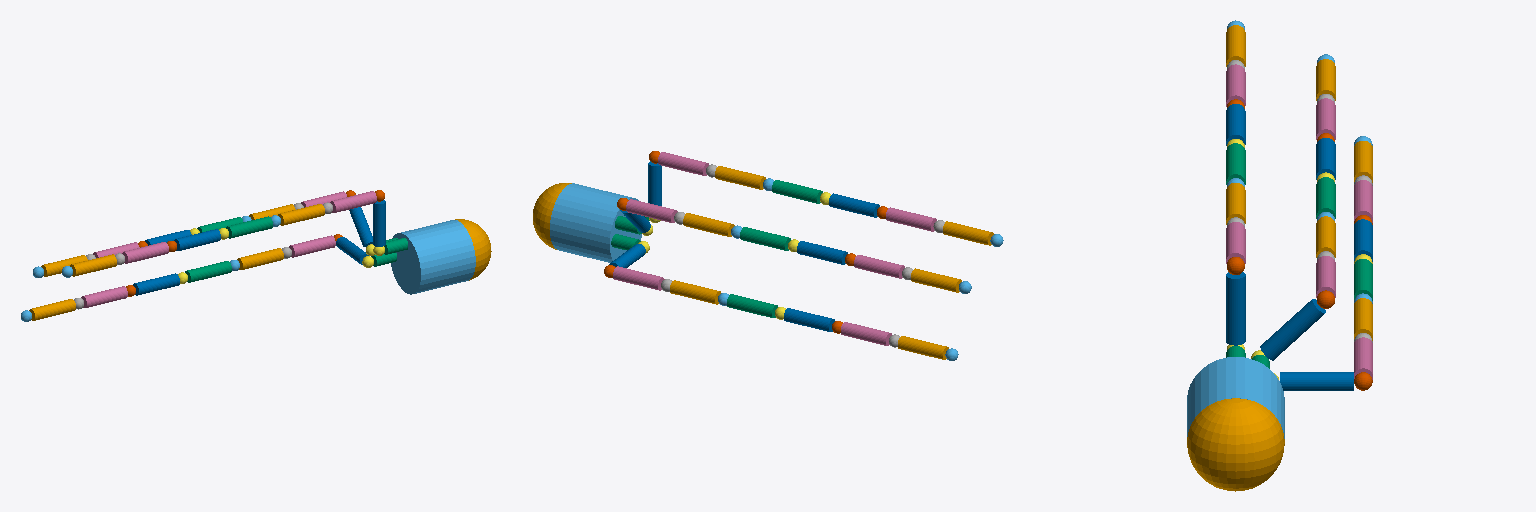
--- Facts derived from the render (not from the file) ---
The picture shows the robot from 3 angles, left to right: view 1: azimuth 30°, elevation 25°; view 2: azimuth 150°, elevation 25°; view 3: azimuth 270°, elevation 25°; orthographic projection.
Robot: sentinel/octopus_3_arms — 50 links, 49 joints (18 revolute, 31 fixed); root link eye; default pose: every joint at zero.
Links seen in each view (by area): view 1: head, eye, branch_20_cylinder, branch_26_cylinder, branch_04_cylinder, branch_23_cylinder, branch_02_cylinder, branch_06_cylinder, branch_22_cylinder, branch_01_cylinder, branch_03_cylinder, branch_25_cylinder (+3 smaller); view 2: head, eye, branch_02_cylinder, branch_04_cylinder, branch_01_cylinder, branch_03_cylinder, branch_05_cylinder, branch_12_cylinder, branch_13_cylinder, branch_21_cylinder, branch_26_cylinder, branch_11_cylinder (+9 smaller); view 3: eye, head, branch_10_cylinder, branch_20_cylinder, branch_00_cylinder, branch_21_cylinder, branch_26_cylinder, branch_14_cylinder, branch_15_cylinder, branch_16_cylinder, branch_23_cylinder, branch_24_cylinder (+11 smaller).
Link boxes in pixels (box(x1,y1,x2,y2)): head: box(391, 220, 475, 294); eye: box(455, 219, 491, 280); branch_20_cylinder: box(373, 200, 385, 246); branch_26_cylinder: box(70, 254, 116, 276); branch_04_cylinder: box(133, 273, 179, 295); branch_23_cylinder: box(226, 216, 272, 238); branch_02_cylinder: box(237, 248, 283, 269); branch_06_cylinder: box(29, 299, 75, 320); branch_22_cylinder: box(278, 204, 324, 225); branch_01_cylinder: box(289, 235, 335, 257); branch_03_cylinder: box(185, 261, 231, 282); branch_25_cylinder: box(122, 242, 168, 263); head: box(550, 183, 641, 262); eye: box(533, 183, 571, 249); branch_02_cylinder: box(670, 280, 720, 304); branch_04_cylinder: box(784, 308, 834, 331); branch_01_cylinder: box(613, 266, 664, 290); branch_03_cylinder: box(727, 294, 777, 317); branch_05_cylinder: box(841, 322, 891, 345); branch_12_cylinder: box(683, 213, 734, 236); branch_13_cylinder: box(740, 227, 790, 250); branch_21_cylinder: box(658, 152, 708, 175); branch_26_cylinder: box(943, 221, 993, 245); branch_11_cylinder: box(626, 199, 677, 222); eye: box(1187, 398, 1284, 491); head: box(1187, 357, 1284, 438); branch_10_cylinder: box(1260, 299, 1325, 360); branch_20_cylinder: box(1226, 272, 1245, 345); branch_00_cylinder: box(1280, 372, 1353, 390); branch_21_cylinder: box(1226, 222, 1245, 263); branch_26_cylinder: box(1226, 25, 1245, 66); branch_14_cylinder: box(1316, 138, 1335, 179); branch_15_cylinder: box(1316, 98, 1335, 139); branch_16_cylinder: box(1316, 59, 1335, 100); branch_23_cylinder: box(1226, 143, 1245, 184); branch_24_cylinder: box(1226, 104, 1245, 145).
Bounding box of the posed robot: 1.55 × 0.38 × 0.3801 m (x, y, z).
Geometry: primitives only (box / cylinder / sphere), no mesh files.

The robot description file, URDF, robot "sentinel/octopus_3_arms":
<?xml version="1.0"?>
<robot name="sentinel/octopus_3_arms">
<link name="eye">
  <inertial>
   <mass value="1"/>
   <inertia ixx="0.004000000000000001" ixy="0" ixz="0" iyy="0.004000000000000001" iyz="0" izz="0.004000000000000001"/>
  </inertial>
  <collision>
    <origin rpy="0 0 0" xyz="0 0 0"/>
    <geometry>
      <sphere radius="0.1"/>
    </geometry>
  </collision>
  <visual>
    <origin rpy="0 0 0" xyz="0 0 0"/>
    <geometry>
      <sphere radius="0.1"/>
    </geometry>
  </visual>
</link>

 <link name="head">
  <inertial>
    <mass value="1"/>
    <inertia ixx="0.0058333333333333345" ixy="0" ixz="0" iyy="0.0058333333333333345" iyz="0" izz="0.0025000000000000005"/>
  </inertial>
  <visual>
    <origin rpy="0 1.57 0" xyz="-0.1 0 0"/>
    <geometry>
      <cylinder length="0.2" radius="0.1"/>
    </geometry>
  </visual>
  <collision>
    <origin rpy="0 1.57 0" xyz="-0.1 0 0"/>
    <geometry>
      <cylinder length="0.2" radius="0.1"/>
    </geometry>
  </collision>
 </link>

<joint name="joint_fixed_eye_head" type="fixed">
  <origin rpy="0 0 0" xyz="0 0 0"/>
  <parent link="eye"/>
  <child link="head"/>
</joint>

<!--############################################################################
branch_00
##############################################################################-->
 <link name="branch_00_cylinder_stub">
  <inertial>
    <mass value="1"/>
    <inertia ixx="0.0005687499999999999" ixy="0" ixz="0" iyy="0.0005687499999999999" iyz="0" izz="0.0001"/>
  </inertial>
  <visual>
    <origin rpy="0 1.57 0" xyz="-0.0375 0 0"/>
    <geometry>
      <cylinder length="0.075" radius="0.02"/>
    </geometry>
  </visual>
  <collision>
    <origin rpy="0 1.57 0" xyz="-0.0375 0 0"/>
    <geometry>
      <cylinder length="0.075" radius="0.02"/>
    </geometry>
  </collision>
 </link>

<joint name="joint_fixed_head_branch_00_cylinder_stub" type="fixed">
  <origin rpy="0 0 0" xyz="-0.2 0.06999999999999999 0.0"/>
  <parent link="head"/>
  <child link="branch_00_cylinder_stub"/>
</joint>

<link name="branch_00_sphere_stub">
  <inertial>
   <mass value="1"/>
   <inertia ixx="0.00014439999999999999" ixy="0" ixz="0" iyy="0.00014439999999999999" iyz="0" izz="0.00014439999999999999"/>
  </inertial>
  <collision>
    <origin rpy="0 0 0" xyz="-0.095 0 0"/>
    <geometry>
      <sphere radius="0.019"/>
    </geometry>
  </collision>
  <visual>
    <origin rpy="0 0 0" xyz="-0.095 0 0"/>
    <geometry>
      <sphere radius="0.019"/>
    </geometry>
  </visual>
</link>

<joint name="joint_fixed_branch_00_cylinder_stub_branch_00_sphere_stub" type="fixed">
  <origin rpy="0 0 0" xyz="0 0 0"/>
  <parent link="branch_00_cylinder_stub"/>
  <child link="branch_00_sphere_stub"/>
</joint>

 <link name="branch_00_cylinder">
  <inertial>
    <mass value="1"/>
    <inertia ixx="0.0019749999999999998" ixy="0" ixz="0" iyy="0.0019749999999999998" iyz="0" izz="0.0001"/>
  </inertial>
  <visual>
    <origin rpy="0 1.5707963267948966 1.57" xyz="-0.095 0.095 0.0"/>
    <geometry>
      <cylinder length="0.15" radius="0.02"/>
    </geometry>
  </visual>
  <collision>
    <origin rpy="0 1.5707963267948966 1.57" xyz="-0.095 0.095 0.0"/>
    <geometry>
      <cylinder length="0.15" radius="0.02"/>
    </geometry>
  </collision>
 </link>

<joint name="joint_fixed_branch_00_sphere_stub_branch_00_cylinder" type="fixed">
  <origin rpy="0 0 0" xyz="0 0 0"/>
  <parent link="branch_00_sphere_stub"/>
  <child link="branch_00_cylinder"/>
</joint>

<link name="branch_00">
  <inertial>
   <mass value="1"/>
   <inertia ixx="0.00014439999999999999" ixy="0" ixz="0" iyy="0.00014439999999999999" iyz="0" izz="0.00014439999999999999"/>
  </inertial>
  <collision>
    <origin rpy="0 0 0" xyz="0 0 0"/>
    <geometry>
      <sphere radius="0.019"/>
    </geometry>
  </collision>
  <visual>
    <origin rpy="0 0 0" xyz="0 0 0"/>
    <geometry>
      <sphere radius="0.019"/>
    </geometry>
  </visual>
</link>

<joint name="joint_fixed_branch_00_cylinder_branch_00" type="fixed">
  <origin rpy="0 0 0" xyz="-0.095 0.19 0.0"/>
  <parent link="branch_00_cylinder"/>
  <child link="branch_00"/>
</joint>

<!--############################################################################
branch_01
##############################################################################-->
 <link name="branch_01_cylinder">
  <inertial>
    <mass value="1"/>
    <inertia ixx="0.0019749999999999998" ixy="0" ixz="0" iyy="0.0019749999999999998" iyz="0" izz="0.0001"/>
  </inertial>
  <visual>
    <origin rpy="0 1.57 0" xyz="-0.095 0 0"/>
    <geometry>
      <cylinder length="0.15" radius="0.02"/>
    </geometry>
  </visual>
  <collision>
    <origin rpy="0 1.57 0" xyz="-0.095 0 0"/>
    <geometry>
      <cylinder length="0.15" radius="0.02"/>
    </geometry>
  </collision>
 </link>

<joint name="joint_revolute_branch_00_branch_01_cylinder_Z" type="revolute">
  <origin rpy="0 0 0" xyz="0 0 0"/>
  <parent link="branch_00"/>
  <child link="branch_01_cylinder"/>
  <axis xyz="0 0.0 -1.0"/>
  <dynamics damping="0.01" friction="0.5"/>
  <limit lower="-1.5707963267948966" upper="1.5707963267948966" effort="0.01" velocity="100"/>
</joint>

<link name="branch_01">
  <inertial>
   <mass value="1"/>
   <inertia ixx="0.00014439999999999999" ixy="0" ixz="0" iyy="0.00014439999999999999" iyz="0" izz="0.00014439999999999999"/>
  </inertial>
  <collision>
    <origin rpy="0 0 0" xyz="0 0 0"/>
    <geometry>
      <sphere radius="0.019"/>
    </geometry>
  </collision>
  <visual>
    <origin rpy="0 0 0" xyz="0 0 0"/>
    <geometry>
      <sphere radius="0.019"/>
    </geometry>
  </visual>
</link>

<joint name="joint_fixed_branch_01_cylinder_branch_01" type="fixed">
  <origin rpy="0 0 0" xyz="-0.19 0 0"/>
  <parent link="branch_01_cylinder"/>
  <child link="branch_01"/>
</joint>

<!--############################################################################
branch_02
##############################################################################-->
 <link name="branch_02_cylinder">
  <inertial>
    <mass value="1"/>
    <inertia ixx="0.0019749999999999998" ixy="0" ixz="0" iyy="0.0019749999999999998" iyz="0" izz="0.0001"/>
  </inertial>
  <visual>
    <origin rpy="0 1.57 0" xyz="-0.095 0 0"/>
    <geometry>
      <cylinder length="0.15" radius="0.02"/>
    </geometry>
  </visual>
  <collision>
    <origin rpy="0 1.57 0" xyz="-0.095 0 0"/>
    <geometry>
      <cylinder length="0.15" radius="0.02"/>
    </geometry>
  </collision>
 </link>

<joint name="joint_revolute_branch_01_branch_02_cylinder_Z" type="revolute">
  <origin rpy="0 0 0" xyz="0 0 0"/>
  <parent link="branch_01"/>
  <child link="branch_02_cylinder"/>
  <axis xyz="0 0.0 -1.0"/>
  <dynamics damping="0.01" friction="0.5"/>
  <limit lower="-1.5707963267948966" upper="1.5707963267948966" effort="0.01" velocity="100"/>
</joint>

<link name="branch_02">
  <inertial>
   <mass value="1"/>
   <inertia ixx="0.00014439999999999999" ixy="0" ixz="0" iyy="0.00014439999999999999" iyz="0" izz="0.00014439999999999999"/>
  </inertial>
  <collision>
    <origin rpy="0 0 0" xyz="0 0 0"/>
    <geometry>
      <sphere radius="0.019"/>
    </geometry>
  </collision>
  <visual>
    <origin rpy="0 0 0" xyz="0 0 0"/>
    <geometry>
      <sphere radius="0.019"/>
    </geometry>
  </visual>
</link>

<joint name="joint_fixed_branch_02_cylinder_branch_02" type="fixed">
  <origin rpy="0 0 0" xyz="-0.19 0 0"/>
  <parent link="branch_02_cylinder"/>
  <child link="branch_02"/>
</joint>

<!--############################################################################
branch_03
##############################################################################-->
 <link name="branch_03_cylinder">
  <inertial>
    <mass value="1"/>
    <inertia ixx="0.0019749999999999998" ixy="0" ixz="0" iyy="0.0019749999999999998" iyz="0" izz="0.0001"/>
  </inertial>
  <visual>
    <origin rpy="0 1.57 0" xyz="-0.095 0 0"/>
    <geometry>
      <cylinder length="0.15" radius="0.02"/>
    </geometry>
  </visual>
  <collision>
    <origin rpy="0 1.57 0" xyz="-0.095 0 0"/>
    <geometry>
      <cylinder length="0.15" radius="0.02"/>
    </geometry>
  </collision>
 </link>

<joint name="joint_revolute_branch_02_branch_03_cylinder_Z" type="revolute">
  <origin rpy="0 0 0" xyz="0 0 0"/>
  <parent link="branch_02"/>
  <child link="branch_03_cylinder"/>
  <axis xyz="0 0.0 -1.0"/>
  <dynamics damping="0.01" friction="0.5"/>
  <limit lower="-1.5707963267948966" upper="1.5707963267948966" effort="0.01" velocity="100"/>
</joint>

<link name="branch_03">
  <inertial>
   <mass value="1"/>
   <inertia ixx="0.00014439999999999999" ixy="0" ixz="0" iyy="0.00014439999999999999" iyz="0" izz="0.00014439999999999999"/>
  </inertial>
  <collision>
    <origin rpy="0 0 0" xyz="0 0 0"/>
    <geometry>
      <sphere radius="0.019"/>
    </geometry>
  </collision>
  <visual>
    <origin rpy="0 0 0" xyz="0 0 0"/>
    <geometry>
      <sphere radius="0.019"/>
    </geometry>
  </visual>
</link>

<joint name="joint_fixed_branch_03_cylinder_branch_03" type="fixed">
  <origin rpy="0 0 0" xyz="-0.19 0 0"/>
  <parent link="branch_03_cylinder"/>
  <child link="branch_03"/>
</joint>

<!--############################################################################
branch_04
##############################################################################-->
 <link name="branch_04_cylinder">
  <inertial>
    <mass value="1"/>
    <inertia ixx="0.0019749999999999998" ixy="0" ixz="0" iyy="0.0019749999999999998" iyz="0" izz="0.0001"/>
  </inertial>
  <visual>
    <origin rpy="0 1.57 0" xyz="-0.095 0 0"/>
    <geometry>
      <cylinder length="0.15" radius="0.02"/>
    </geometry>
  </visual>
  <collision>
    <origin rpy="0 1.57 0" xyz="-0.095 0 0"/>
    <geometry>
      <cylinder length="0.15" radius="0.02"/>
    </geometry>
  </collision>
 </link>

<joint name="joint_revolute_branch_03_branch_04_cylinder_Z" type="revolute">
  <origin rpy="0 0 0" xyz="0 0 0"/>
  <parent link="branch_03"/>
  <child link="branch_04_cylinder"/>
  <axis xyz="0 0.0 -1.0"/>
  <dynamics damping="0.01" friction="0.5"/>
  <limit lower="-1.5707963267948966" upper="1.5707963267948966" effort="0.01" velocity="100"/>
</joint>

<link name="branch_04">
  <inertial>
   <mass value="1"/>
   <inertia ixx="0.00014439999999999999" ixy="0" ixz="0" iyy="0.00014439999999999999" iyz="0" izz="0.00014439999999999999"/>
  </inertial>
  <collision>
    <origin rpy="0 0 0" xyz="0 0 0"/>
    <geometry>
      <sphere radius="0.019"/>
    </geometry>
  </collision>
  <visual>
    <origin rpy="0 0 0" xyz="0 0 0"/>
    <geometry>
      <sphere radius="0.019"/>
    </geometry>
  </visual>
</link>

<joint name="joint_fixed_branch_04_cylinder_branch_04" type="fixed">
  <origin rpy="0 0 0" xyz="-0.19 0 0"/>
  <parent link="branch_04_cylinder"/>
  <child link="branch_04"/>
</joint>

<!--############################################################################
branch_05
##############################################################################-->
 <link name="branch_05_cylinder">
  <inertial>
    <mass value="1"/>
    <inertia ixx="0.0019749999999999998" ixy="0" ixz="0" iyy="0.0019749999999999998" iyz="0" izz="0.0001"/>
  </inertial>
  <visual>
    <origin rpy="0 1.57 0" xyz="-0.095 0 0"/>
    <geometry>
      <cylinder length="0.15" radius="0.02"/>
    </geometry>
  </visual>
  <collision>
    <origin rpy="0 1.57 0" xyz="-0.095 0 0"/>
    <geometry>
      <cylinder length="0.15" radius="0.02"/>
    </geometry>
  </collision>
 </link>

<joint name="joint_revolute_branch_04_branch_05_cylinder_Z" type="revolute">
  <origin rpy="0 0 0" xyz="0 0 0"/>
  <parent link="branch_04"/>
  <child link="branch_05_cylinder"/>
  <axis xyz="0 0.0 -1.0"/>
  <dynamics damping="0.01" friction="0.5"/>
  <limit lower="-1.5707963267948966" upper="1.5707963267948966" effort="0.01" velocity="100"/>
</joint>

<link name="branch_05">
  <inertial>
   <mass value="1"/>
   <inertia ixx="0.00014439999999999999" ixy="0" ixz="0" iyy="0.00014439999999999999" iyz="0" izz="0.00014439999999999999"/>
  </inertial>
  <collision>
    <origin rpy="0 0 0" xyz="0 0 0"/>
    <geometry>
      <sphere radius="0.019"/>
    </geometry>
  </collision>
  <visual>
    <origin rpy="0 0 0" xyz="0 0 0"/>
    <geometry>
      <sphere radius="0.019"/>
    </geometry>
  </visual>
</link>

<joint name="joint_fixed_branch_05_cylinder_branch_05" type="fixed">
  <origin rpy="0 0 0" xyz="-0.19 0 0"/>
  <parent link="branch_05_cylinder"/>
  <child link="branch_05"/>
</joint>

<!--############################################################################
branch_06
##############################################################################-->
 <link name="branch_06_cylinder">
  <inertial>
    <mass value="1"/>
    <inertia ixx="0.0019749999999999998" ixy="0" ixz="0" iyy="0.0019749999999999998" iyz="0" izz="0.0001"/>
  </inertial>
  <visual>
    <origin rpy="0 1.57 0" xyz="-0.095 0 0"/>
    <geometry>
      <cylinder length="0.15" radius="0.02"/>
    </geometry>
  </visual>
  <collision>
    <origin rpy="0 1.57 0" xyz="-0.095 0 0"/>
    <geometry>
      <cylinder length="0.15" radius="0.02"/>
    </geometry>
  </collision>
 </link>

<joint name="joint_revolute_branch_05_branch_06_cylinder_Z" type="revolute">
  <origin rpy="0 0 0" xyz="0 0 0"/>
  <parent link="branch_05"/>
  <child link="branch_06_cylinder"/>
  <axis xyz="0 0.0 -1.0"/>
  <dynamics damping="0.01" friction="0.5"/>
  <limit lower="-1.5707963267948966" upper="1.5707963267948966" effort="0.01" velocity="100"/>
</joint>

<link name="branch_06">
  <inertial>
   <mass value="1"/>
   <inertia ixx="0.00014439999999999999" ixy="0" ixz="0" iyy="0.00014439999999999999" iyz="0" izz="0.00014439999999999999"/>
  </inertial>
  <collision>
    <origin rpy="0 0 0" xyz="0 0 0"/>
    <geometry>
      <sphere radius="0.019"/>
    </geometry>
  </collision>
  <visual>
    <origin rpy="0 0 0" xyz="0 0 0"/>
    <geometry>
      <sphere radius="0.019"/>
    </geometry>
  </visual>
</link>

<joint name="joint_fixed_branch_06_cylinder_branch_06" type="fixed">
  <origin rpy="0 0 0" xyz="-0.19 0 0"/>
  <parent link="branch_06_cylinder"/>
  <child link="branch_06"/>
</joint>

<!--############################################################################
branch_10
##############################################################################-->
 <link name="branch_10_cylinder_stub">
  <inertial>
    <mass value="1"/>
    <inertia ixx="0.0005687499999999999" ixy="0" ixz="0" iyy="0.0005687499999999999" iyz="0" izz="0.0001"/>
  </inertial>
  <visual>
    <origin rpy="0 1.57 0" xyz="-0.0375 0 0"/>
    <geometry>
      <cylinder length="0.075" radius="0.02"/>
    </geometry>
  </visual>
  <collision>
    <origin rpy="0 1.57 0" xyz="-0.0375 0 0"/>
    <geometry>
      <cylinder length="0.075" radius="0.02"/>
    </geometry>
  </collision>
 </link>

<joint name="joint_fixed_head_branch_10_cylinder_stub" type="fixed">
  <origin rpy="0 0 0" xyz="-0.2 0.049497474683058325 0.04949747468305832"/>
  <parent link="head"/>
  <child link="branch_10_cylinder_stub"/>
</joint>

<link name="branch_10_sphere_stub">
  <inertial>
   <mass value="1"/>
   <inertia ixx="0.00014439999999999999" ixy="0" ixz="0" iyy="0.00014439999999999999" iyz="0" izz="0.00014439999999999999"/>
  </inertial>
  <collision>
    <origin rpy="0 0 0" xyz="-0.095 0 0"/>
    <geometry>
      <sphere radius="0.019"/>
    </geometry>
  </collision>
  <visual>
    <origin rpy="0 0 0" xyz="-0.095 0 0"/>
    <geometry>
      <sphere radius="0.019"/>
    </geometry>
  </visual>
</link>

<joint name="joint_fixed_branch_10_cylinder_stub_branch_10_sphere_stub" type="fixed">
  <origin rpy="0 0 0" xyz="0 0 0"/>
  <parent link="branch_10_cylinder_stub"/>
  <child link="branch_10_sphere_stub"/>
</joint>

 <link name="branch_10_cylinder">
  <inertial>
    <mass value="1"/>
    <inertia ixx="0.0019749999999999998" ixy="0" ixz="0" iyy="0.0019749999999999998" iyz="0" izz="0.0001"/>
  </inertial>
  <visual>
    <origin rpy="0 0.7853981633974484 1.57" xyz="-0.095 0.06717514421272201 0.06717514421272201"/>
    <geometry>
      <cylinder length="0.15" radius="0.02"/>
    </geometry>
  </visual>
  <collision>
    <origin rpy="0 0.7853981633974484 1.57" xyz="-0.095 0.06717514421272201 0.06717514421272201"/>
    <geometry>
      <cylinder length="0.15" radius="0.02"/>
    </geometry>
  </collision>
 </link>

<joint name="joint_fixed_branch_10_sphere_stub_branch_10_cylinder" type="fixed">
  <origin rpy="0 0 0" xyz="0 0 0"/>
  <parent link="branch_10_sphere_stub"/>
  <child link="branch_10_cylinder"/>
</joint>

<link name="branch_10">
  <inertial>
   <mass value="1"/>
   <inertia ixx="0.00014439999999999999" ixy="0" ixz="0" iyy="0.00014439999999999999" iyz="0" izz="0.00014439999999999999"/>
  </inertial>
  <collision>
    <origin rpy="0 0 0" xyz="0 0 0"/>
    <geometry>
      <sphere radius="0.019"/>
    </geometry>
  </collision>
  <visual>
    <origin rpy="0 0 0" xyz="0 0 0"/>
    <geometry>
      <sphere radius="0.019"/>
    </geometry>
  </visual>
</link>

<joint name="joint_fixed_branch_10_cylinder_branch_10" type="fixed">
  <origin rpy="0 0 0" xyz="-0.095 0.13435028842544403 0.13435028842544403"/>
  <parent link="branch_10_cylinder"/>
  <child link="branch_10"/>
</joint>

<!--############################################################################
branch_11
##############################################################################-->
 <link name="branch_11_cylinder">
  <inertial>
    <mass value="1"/>
    <inertia ixx="0.0019749999999999998" ixy="0" ixz="0" iyy="0.0019749999999999998" iyz="0" izz="0.0001"/>
  </inertial>
  <visual>
    <origin rpy="0 1.57 0" xyz="-0.095 0 0"/>
    <geometry>
      <cylinder length="0.15" radius="0.02"/>
    </geometry>
  </visual>
  <collision>
    <origin rpy="0 1.57 0" xyz="-0.095 0 0"/>
    <geometry>
      <cylinder length="0.15" radius="0.02"/>
    </geometry>
  </collision>
 </link>

<joint name="joint_revolute_branch_10_branch_11_cylinder_Z" type="revolute">
  <origin rpy="0 0 0" xyz="0 0 0"/>
  <parent link="branch_10"/>
  <child link="branch_11_cylinder"/>
  <axis xyz="0 0.7071067811865475 -0.7071067811865476"/>
  <dynamics damping="0.01" friction="0.5"/>
  <limit lower="-1.5707963267948966" upper="1.5707963267948966" effort="0.01" velocity="100"/>
</joint>

<link name="branch_11">
  <inertial>
   <mass value="1"/>
   <inertia ixx="0.00014439999999999999" ixy="0" ixz="0" iyy="0.00014439999999999999" iyz="0" izz="0.00014439999999999999"/>
  </inertial>
  <collision>
    <origin rpy="0 0 0" xyz="0 0 0"/>
    <geometry>
      <sphere radius="0.019"/>
    </geometry>
  </collision>
  <visual>
    <origin rpy="0 0 0" xyz="0 0 0"/>
    <geometry>
      <sphere radius="0.019"/>
    </geometry>
  </visual>
</link>

<joint name="joint_fixed_branch_11_cylinder_branch_11" type="fixed">
  <origin rpy="0 0 0" xyz="-0.19 0 0"/>
  <parent link="branch_11_cylinder"/>
  <child link="branch_11"/>
</joint>

<!--############################################################################
branch_12
##############################################################################-->
 <link name="branch_12_cylinder">
  <inertial>
    <mass value="1"/>
    <inertia ixx="0.0019749999999999998" ixy="0" ixz="0" iyy="0.0019749999999999998" iyz="0" izz="0.0001"/>
  </inertial>
  <visual>
    <origin rpy="0 1.57 0" xyz="-0.095 0 0"/>
    <geometry>
      <cylinder length="0.15" radius="0.02"/>
    </geometry>
  </visual>
  <collision>
    <origin rpy="0 1.57 0" xyz="-0.095 0 0"/>
    <geometry>
      <cylinder length="0.15" radius="0.02"/>
    </geometry>
  </collision>
 </link>

<joint name="joint_revolute_branch_11_branch_12_cylinder_Z" type="revolute">
  <origin rpy="0 0 0" xyz="0 0 0"/>
  <parent link="branch_11"/>
  <child link="branch_12_cylinder"/>
  <axis xyz="0 0.7071067811865475 -0.7071067811865476"/>
  <dynamics damping="0.01" friction="0.5"/>
  <limit lower="-1.5707963267948966" upper="1.5707963267948966" effort="0.01" velocity="100"/>
</joint>

<link name="branch_12">
  <inertial>
   <mass value="1"/>
   <inertia ixx="0.00014439999999999999" ixy="0" ixz="0" iyy="0.00014439999999999999" iyz="0" izz="0.00014439999999999999"/>
  </inertial>
  <collision>
    <origin rpy="0 0 0" xyz="0 0 0"/>
    <geometry>
      <sphere radius="0.019"/>
    </geometry>
  </collision>
  <visual>
    <origin rpy="0 0 0" xyz="0 0 0"/>
    <geometry>
      <sphere radius="0.019"/>
    </geometry>
  </visual>
</link>

<joint name="joint_fixed_branch_12_cylinder_branch_12" type="fixed">
  <origin rpy="0 0 0" xyz="-0.19 0 0"/>
  <parent link="branch_12_cylinder"/>
  <child link="branch_12"/>
</joint>

<!--############################################################################
branch_13
##############################################################################-->
 <link name="branch_13_cylinder">
  <inertial>
    <mass value="1"/>
    <inertia ixx="0.0019749999999999998" ixy="0" ixz="0" iyy="0.0019749999999999998" iyz="0" izz="0.0001"/>
  </inertial>
  <visual>
    <origin rpy="0 1.57 0" xyz="-0.095 0 0"/>
    <geometry>
      <cylinder length="0.15" radius="0.02"/>
    </geometry>
  </visual>
  <collision>
    <origin rpy="0 1.57 0" xyz="-0.095 0 0"/>
    <geometry>
      <cylinder length="0.15" radius="0.02"/>
    </geometry>
  </collision>
 </link>

<joint name="joint_revolute_branch_12_branch_13_cylinder_Z" type="revolute">
  <origin rpy="0 0 0" xyz="0 0 0"/>
  <parent link="branch_12"/>
  <child link="branch_13_cylinder"/>
  <axis xyz="0 0.7071067811865475 -0.7071067811865476"/>
  <dynamics damping="0.01" friction="0.5"/>
  <limit lower="-1.5707963267948966" upper="1.5707963267948966" effort="0.01" velocity="100"/>
</joint>

<link name="branch_13">
  <inertial>
   <mass value="1"/>
   <inertia ixx="0.00014439999999999999" ixy="0" ixz="0" iyy="0.00014439999999999999" iyz="0" izz="0.00014439999999999999"/>
  </inertial>
  <collision>
    <origin rpy="0 0 0" xyz="0 0 0"/>
    <geometry>
      <sphere radius="0.019"/>
    </geometry>
  </collision>
  <visual>
    <origin rpy="0 0 0" xyz="0 0 0"/>
    <geometry>
      <sphere radius="0.019"/>
    </geometry>
  </visual>
</link>

<joint name="joint_fixed_branch_13_cylinder_branch_13" type="fixed">
  <origin rpy="0 0 0" xyz="-0.19 0 0"/>
  <parent link="branch_13_cylinder"/>
  <child link="branch_13"/>
</joint>

<!--############################################################################
branch_14
##############################################################################-->
 <link name="branch_14_cylinder">
  <inertial>
    <mass value="1"/>
    <inertia ixx="0.0019749999999999998" ixy="0" ixz="0" iyy="0.0019749999999999998" iyz="0" izz="0.0001"/>
  </inertial>
  <visual>
    <origin rpy="0 1.57 0" xyz="-0.095 0 0"/>
    <geometry>
      <cylinder length="0.15" radius="0.02"/>
    </geometry>
  </visual>
  <collision>
    <origin rpy="0 1.57 0" xyz="-0.095 0 0"/>
    <geometry>
      <cylinder length="0.15" radius="0.02"/>
    </geometry>
  </collision>
 </link>

<joint name="joint_revolute_branch_13_branch_14_cylinder_Z" type="revolute">
  <origin rpy="0 0 0" xyz="0 0 0"/>
  <parent link="branch_13"/>
  <child link="branch_14_cylinder"/>
  <axis xyz="0 0.7071067811865475 -0.7071067811865476"/>
  <dynamics damping="0.01" friction="0.5"/>
  <limit lower="-1.5707963267948966" upper="1.5707963267948966" effort="0.01" velocity="100"/>
</joint>

<link name="branch_14">
  <inertial>
   <mass value="1"/>
   <inertia ixx="0.00014439999999999999" ixy="0" ixz="0" iyy="0.00014439999999999999" iyz="0" izz="0.00014439999999999999"/>
  </inertial>
  <collision>
    <origin rpy="0 0 0" xyz="0 0 0"/>
    <geometry>
      <sphere radius="0.019"/>
    </geometry>
  </collision>
  <visual>
    <origin rpy="0 0 0" xyz="0 0 0"/>
    <geometry>
      <sphere radius="0.019"/>
    </geometry>
  </visual>
</link>

<joint name="joint_fixed_branch_14_cylinder_branch_14" type="fixed">
  <origin rpy="0 0 0" xyz="-0.19 0 0"/>
  <parent link="branch_14_cylinder"/>
  <child link="branch_14"/>
</joint>

<!--############################################################################
branch_15
##############################################################################-->
 <link name="branch_15_cylinder">
  <inertial>
    <mass value="1"/>
    <inertia ixx="0.0019749999999999998" ixy="0" ixz="0" iyy="0.0019749999999999998" iyz="0" izz="0.0001"/>
  </inertial>
  <visual>
    <origin rpy="0 1.57 0" xyz="-0.095 0 0"/>
    <geometry>
      <cylinder length="0.15" radius="0.02"/>
    </geometry>
  </visual>
  <collision>
    <origin rpy="0 1.57 0" xyz="-0.095 0 0"/>
    <geometry>
      <cylinder length="0.15" radius="0.02"/>
    </geometry>
  </collision>
 </link>

<joint name="joint_revolute_branch_14_branch_15_cylinder_Z" type="revolute">
  <origin rpy="0 0 0" xyz="0 0 0"/>
  <parent link="branch_14"/>
  <child link="branch_15_cylinder"/>
  <axis xyz="0 0.7071067811865475 -0.7071067811865476"/>
  <dynamics damping="0.01" friction="0.5"/>
  <limit lower="-1.5707963267948966" upper="1.5707963267948966" effort="0.01" velocity="100"/>
</joint>

<link name="branch_15">
  <inertial>
   <mass value="1"/>
   <inertia ixx="0.00014439999999999999" ixy="0" ixz="0" iyy="0.00014439999999999999" iyz="0" izz="0.00014439999999999999"/>
  </inertial>
  <collision>
    <origin rpy="0 0 0" xyz="0 0 0"/>
    <geometry>
      <sphere radius="0.019"/>
    </geometry>
  </collision>
  <visual>
    <origin rpy="0 0 0" xyz="0 0 0"/>
    <geometry>
      <sphere radius="0.019"/>
    </geometry>
  </visual>
</link>

<joint name="joint_fixed_branch_15_cylinder_branch_15" type="fixed">
  <origin rpy="0 0 0" xyz="-0.19 0 0"/>
  <parent link="branch_15_cylinder"/>
  <child link="branch_15"/>
</joint>

<!--############################################################################
branch_16
##############################################################################-->
 <link name="branch_16_cylinder">
  <inertial>
    <mass value="1"/>
    <inertia ixx="0.0019749999999999998" ixy="0" ixz="0" iyy="0.0019749999999999998" iyz="0" izz="0.0001"/>
  </inertial>
  <visual>
    <origin rpy="0 1.57 0" xyz="-0.095 0 0"/>
    <geometry>
      <cylinder length="0.15" radius="0.02"/>
    </geometry>
  </visual>
  <collision>
    <origin rpy="0 1.57 0" xyz="-0.095 0 0"/>
    <geometry>
      <cylinder length="0.15" radius="0.02"/>
    </geometry>
  </collision>
 </link>

<joint name="joint_revolute_branch_15_branch_16_cylinder_Z" type="revolute">
  <origin rpy="0 0 0" xyz="0 0 0"/>
  <parent link="branch_15"/>
  <child link="branch_16_cylinder"/>
  <axis xyz="0 0.7071067811865475 -0.7071067811865476"/>
  <dynamics damping="0.01" friction="0.5"/>
  <limit lower="-1.5707963267948966" upper="1.5707963267948966" effort="0.01" velocity="100"/>
</joint>

<link name="branch_16">
  <inertial>
   <mass value="1"/>
   <inertia ixx="0.00014439999999999999" ixy="0" ixz="0" iyy="0.00014439999999999999" iyz="0" izz="0.00014439999999999999"/>
  </inertial>
  <collision>
    <origin rpy="0 0 0" xyz="0 0 0"/>
    <geometry>
      <sphere radius="0.019"/>
    </geometry>
  </collision>
  <visual>
    <origin rpy="0 0 0" xyz="0 0 0"/>
    <geometry>
      <sphere radius="0.019"/>
    </geometry>
  </visual>
</link>

<joint name="joint_fixed_branch_16_cylinder_branch_16" type="fixed">
  <origin rpy="0 0 0" xyz="-0.19 0 0"/>
  <parent link="branch_16_cylinder"/>
  <child link="branch_16"/>
</joint>

<!--############################################################################
branch_20
##############################################################################-->
 <link name="branch_20_cylinder_stub">
  <inertial>
    <mass value="1"/>
    <inertia ixx="0.0005687499999999999" ixy="0" ixz="0" iyy="0.0005687499999999999" iyz="0" izz="0.0001"/>
  </inertial>
  <visual>
    <origin rpy="0 1.57 0" xyz="-0.0375 0 0"/>
    <geometry>
      <cylinder length="0.075" radius="0.02"/>
    </geometry>
  </visual>
  <collision>
    <origin rpy="0 1.57 0" xyz="-0.0375 0 0"/>
    <geometry>
      <cylinder length="0.075" radius="0.02"/>
    </geometry>
  </collision>
 </link>

<joint name="joint_fixed_head_branch_20_cylinder_stub" type="fixed">
  <origin rpy="0 0 0" xyz="-0.2 4.286263797015736e-18 0.06999999999999999"/>
  <parent link="head"/>
  <child link="branch_20_cylinder_stub"/>
</joint>

<link name="branch_20_sphere_stub">
  <inertial>
   <mass value="1"/>
   <inertia ixx="0.00014439999999999999" ixy="0" ixz="0" iyy="0.00014439999999999999" iyz="0" izz="0.00014439999999999999"/>
  </inertial>
  <collision>
    <origin rpy="0 0 0" xyz="-0.095 0 0"/>
    <geometry>
      <sphere radius="0.019"/>
    </geometry>
  </collision>
  <visual>
    <origin rpy="0 0 0" xyz="-0.095 0 0"/>
    <geometry>
      <sphere radius="0.019"/>
    </geometry>
  </visual>
</link>

<joint name="joint_fixed_branch_20_cylinder_stub_branch_20_sphere_stub" type="fixed">
  <origin rpy="0 0 0" xyz="0 0 0"/>
  <parent link="branch_20_cylinder_stub"/>
  <child link="branch_20_sphere_stub"/>
</joint>

 <link name="branch_20_cylinder">
  <inertial>
    <mass value="1"/>
    <inertia ixx="0.0019749999999999998" ixy="0" ixz="0" iyy="0.0019749999999999998" iyz="0" izz="0.0001"/>
  </inertial>
  <visual>
    <origin rpy="0 6.123233995736766e-17 1.57" xyz="-0.095 5.817072295949928e-18 0.095"/>
    <geometry>
      <cylinder length="0.15" radius="0.02"/>
    </geometry>
  </visual>
  <collision>
    <origin rpy="0 6.123233995736766e-17 1.57" xyz="-0.095 5.817072295949928e-18 0.095"/>
    <geometry>
      <cylinder length="0.15" radius="0.02"/>
    </geometry>
  </collision>
 </link>

<joint name="joint_fixed_branch_20_sphere_stub_branch_20_cylinder" type="fixed">
  <origin rpy="0 0 0" xyz="0 0 0"/>
  <parent link="branch_20_sphere_stub"/>
  <child link="branch_20_cylinder"/>
</joint>

<link name="branch_20">
  <inertial>
   <mass value="1"/>
   <inertia ixx="0.00014439999999999999" ixy="0" ixz="0" iyy="0.00014439999999999999" iyz="0" izz="0.00014439999999999999"/>
  </inertial>
  <collision>
    <origin rpy="0 0 0" xyz="0 0 0"/>
    <geometry>
      <sphere radius="0.019"/>
    </geometry>
  </collision>
  <visual>
    <origin rpy="0 0 0" xyz="0 0 0"/>
    <geometry>
      <sphere radius="0.019"/>
    </geometry>
  </visual>
</link>

<joint name="joint_fixed_branch_20_cylinder_branch_20" type="fixed">
  <origin rpy="0 0 0" xyz="-0.095 1.1634144591899856e-17 0.19"/>
  <parent link="branch_20_cylinder"/>
  <child link="branch_20"/>
</joint>

<!--############################################################################
branch_21
##############################################################################-->
 <link name="branch_21_cylinder">
  <inertial>
    <mass value="1"/>
    <inertia ixx="0.0019749999999999998" ixy="0" ixz="0" iyy="0.0019749999999999998" iyz="0" izz="0.0001"/>
  </inertial>
  <visual>
    <origin rpy="0 1.57 0" xyz="-0.095 0 0"/>
    <geometry>
      <cylinder length="0.15" radius="0.02"/>
    </geometry>
  </visual>
  <collision>
    <origin rpy="0 1.57 0" xyz="-0.095 0 0"/>
    <geometry>
      <cylinder length="0.15" radius="0.02"/>
    </geometry>
  </collision>
 </link>

<joint name="joint_revolute_branch_20_branch_21_cylinder_Z" type="revolute">
  <origin rpy="0 0 0" xyz="0 0 0"/>
  <parent link="branch_20"/>
  <child link="branch_21_cylinder"/>
  <axis xyz="0 1.0 -6.123233995736766e-17"/>
  <dynamics damping="0.01" friction="0.5"/>
  <limit lower="-1.5707963267948966" upper="1.5707963267948966" effort="0.01" velocity="100"/>
</joint>

<link name="branch_21">
  <inertial>
   <mass value="1"/>
   <inertia ixx="0.00014439999999999999" ixy="0" ixz="0" iyy="0.00014439999999999999" iyz="0" izz="0.00014439999999999999"/>
  </inertial>
  <collision>
    <origin rpy="0 0 0" xyz="0 0 0"/>
    <geometry>
      <sphere radius="0.019"/>
    </geometry>
  </collision>
  <visual>
    <origin rpy="0 0 0" xyz="0 0 0"/>
    <geometry>
      <sphere radius="0.019"/>
    </geometry>
  </visual>
</link>

<joint name="joint_fixed_branch_21_cylinder_branch_21" type="fixed">
  <origin rpy="0 0 0" xyz="-0.19 0 0"/>
  <parent link="branch_21_cylinder"/>
  <child link="branch_21"/>
</joint>

<!--############################################################################
branch_22
##############################################################################-->
 <link name="branch_22_cylinder">
  <inertial>
    <mass value="1"/>
    <inertia ixx="0.0019749999999999998" ixy="0" ixz="0" iyy="0.0019749999999999998" iyz="0" izz="0.0001"/>
  </inertial>
  <visual>
    <origin rpy="0 1.57 0" xyz="-0.095 0 0"/>
    <geometry>
      <cylinder length="0.15" radius="0.02"/>
    </geometry>
  </visual>
  <collision>
    <origin rpy="0 1.57 0" xyz="-0.095 0 0"/>
    <geometry>
      <cylinder length="0.15" radius="0.02"/>
    </geometry>
  </collision>
 </link>

<joint name="joint_revolute_branch_21_branch_22_cylinder_Z" type="revolute">
  <origin rpy="0 0 0" xyz="0 0 0"/>
  <parent link="branch_21"/>
  <child link="branch_22_cylinder"/>
  <axis xyz="0 1.0 -6.123233995736766e-17"/>
  <dynamics damping="0.01" friction="0.5"/>
  <limit lower="-1.5707963267948966" upper="1.5707963267948966" effort="0.01" velocity="100"/>
</joint>

<link name="branch_22">
  <inertial>
   <mass value="1"/>
   <inertia ixx="0.00014439999999999999" ixy="0" ixz="0" iyy="0.00014439999999999999" iyz="0" izz="0.00014439999999999999"/>
  </inertial>
  <collision>
    <origin rpy="0 0 0" xyz="0 0 0"/>
    <geometry>
      <sphere radius="0.019"/>
    </geometry>
  </collision>
  <visual>
    <origin rpy="0 0 0" xyz="0 0 0"/>
    <geometry>
      <sphere radius="0.019"/>
    </geometry>
  </visual>
</link>

<joint name="joint_fixed_branch_22_cylinder_branch_22" type="fixed">
  <origin rpy="0 0 0" xyz="-0.19 0 0"/>
  <parent link="branch_22_cylinder"/>
  <child link="branch_22"/>
</joint>

<!--############################################################################
branch_23
##############################################################################-->
 <link name="branch_23_cylinder">
  <inertial>
    <mass value="1"/>
    <inertia ixx="0.0019749999999999998" ixy="0" ixz="0" iyy="0.0019749999999999998" iyz="0" izz="0.0001"/>
  </inertial>
  <visual>
    <origin rpy="0 1.57 0" xyz="-0.095 0 0"/>
    <geometry>
      <cylinder length="0.15" radius="0.02"/>
    </geometry>
  </visual>
  <collision>
    <origin rpy="0 1.57 0" xyz="-0.095 0 0"/>
    <geometry>
      <cylinder length="0.15" radius="0.02"/>
    </geometry>
  </collision>
 </link>

<joint name="joint_revolute_branch_22_branch_23_cylinder_Z" type="revolute">
  <origin rpy="0 0 0" xyz="0 0 0"/>
  <parent link="branch_22"/>
  <child link="branch_23_cylinder"/>
  <axis xyz="0 1.0 -6.123233995736766e-17"/>
  <dynamics damping="0.01" friction="0.5"/>
  <limit lower="-1.5707963267948966" upper="1.5707963267948966" effort="0.01" velocity="100"/>
</joint>

<link name="branch_23">
  <inertial>
   <mass value="1"/>
   <inertia ixx="0.00014439999999999999" ixy="0" ixz="0" iyy="0.00014439999999999999" iyz="0" izz="0.00014439999999999999"/>
  </inertial>
  <collision>
    <origin rpy="0 0 0" xyz="0 0 0"/>
    <geometry>
      <sphere radius="0.019"/>
    </geometry>
  </collision>
  <visual>
    <origin rpy="0 0 0" xyz="0 0 0"/>
    <geometry>
      <sphere radius="0.019"/>
    </geometry>
  </visual>
</link>

<joint name="joint_fixed_branch_23_cylinder_branch_23" type="fixed">
  <origin rpy="0 0 0" xyz="-0.19 0 0"/>
  <parent link="branch_23_cylinder"/>
  <child link="branch_23"/>
</joint>

<!--############################################################################
branch_24
##############################################################################-->
 <link name="branch_24_cylinder">
  <inertial>
    <mass value="1"/>
    <inertia ixx="0.0019749999999999998" ixy="0" ixz="0" iyy="0.0019749999999999998" iyz="0" izz="0.0001"/>
  </inertial>
  <visual>
    <origin rpy="0 1.57 0" xyz="-0.095 0 0"/>
    <geometry>
      <cylinder length="0.15" radius="0.02"/>
    </geometry>
  </visual>
  <collision>
    <origin rpy="0 1.57 0" xyz="-0.095 0 0"/>
    <geometry>
      <cylinder length="0.15" radius="0.02"/>
    </geometry>
  </collision>
 </link>

<joint name="joint_revolute_branch_23_branch_24_cylinder_Z" type="revolute">
  <origin rpy="0 0 0" xyz="0 0 0"/>
  <parent link="branch_23"/>
  <child link="branch_24_cylinder"/>
  <axis xyz="0 1.0 -6.123233995736766e-17"/>
  <dynamics damping="0.01" friction="0.5"/>
  <limit lower="-1.5707963267948966" upper="1.5707963267948966" effort="0.01" velocity="100"/>
</joint>

<link name="branch_24">
  <inertial>
   <mass value="1"/>
   <inertia ixx="0.00014439999999999999" ixy="0" ixz="0" iyy="0.00014439999999999999" iyz="0" izz="0.00014439999999999999"/>
  </inertial>
  <collision>
    <origin rpy="0 0 0" xyz="0 0 0"/>
    <geometry>
      <sphere radius="0.019"/>
    </geometry>
  </collision>
  <visual>
    <origin rpy="0 0 0" xyz="0 0 0"/>
    <geometry>
      <sphere radius="0.019"/>
    </geometry>
  </visual>
</link>

<joint name="joint_fixed_branch_24_cylinder_branch_24" type="fixed">
  <origin rpy="0 0 0" xyz="-0.19 0 0"/>
  <parent link="branch_24_cylinder"/>
  <child link="branch_24"/>
</joint>

<!--############################################################################
branch_25
##############################################################################-->
 <link name="branch_25_cylinder">
  <inertial>
    <mass value="1"/>
    <inertia ixx="0.0019749999999999998" ixy="0" ixz="0" iyy="0.0019749999999999998" iyz="0" izz="0.0001"/>
  </inertial>
  <visual>
    <origin rpy="0 1.57 0" xyz="-0.095 0 0"/>
    <geometry>
      <cylinder length="0.15" radius="0.02"/>
    </geometry>
  </visual>
  <collision>
    <origin rpy="0 1.57 0" xyz="-0.095 0 0"/>
    <geometry>
      <cylinder length="0.15" radius="0.02"/>
    </geometry>
  </collision>
 </link>

<joint name="joint_revolute_branch_24_branch_25_cylinder_Z" type="revolute">
  <origin rpy="0 0 0" xyz="0 0 0"/>
  <parent link="branch_24"/>
  <child link="branch_25_cylinder"/>
  <axis xyz="0 1.0 -6.123233995736766e-17"/>
  <dynamics damping="0.01" friction="0.5"/>
  <limit lower="-1.5707963267948966" upper="1.5707963267948966" effort="0.01" velocity="100"/>
</joint>

<link name="branch_25">
  <inertial>
   <mass value="1"/>
   <inertia ixx="0.00014439999999999999" ixy="0" ixz="0" iyy="0.00014439999999999999" iyz="0" izz="0.00014439999999999999"/>
  </inertial>
  <collision>
    <origin rpy="0 0 0" xyz="0 0 0"/>
    <geometry>
      <sphere radius="0.019"/>
    </geometry>
  </collision>
  <visual>
    <origin rpy="0 0 0" xyz="0 0 0"/>
    <geometry>
      <sphere radius="0.019"/>
    </geometry>
  </visual>
</link>

<joint name="joint_fixed_branch_25_cylinder_branch_25" type="fixed">
  <origin rpy="0 0 0" xyz="-0.19 0 0"/>
  <parent link="branch_25_cylinder"/>
  <child link="branch_25"/>
</joint>

<!--############################################################################
branch_26
##############################################################################-->
 <link name="branch_26_cylinder">
  <inertial>
    <mass value="1"/>
    <inertia ixx="0.0019749999999999998" ixy="0" ixz="0" iyy="0.0019749999999999998" iyz="0" izz="0.0001"/>
  </inertial>
  <visual>
    <origin rpy="0 1.57 0" xyz="-0.095 0 0"/>
    <geometry>
      <cylinder length="0.15" radius="0.02"/>
    </geometry>
  </visual>
  <collision>
    <origin rpy="0 1.57 0" xyz="-0.095 0 0"/>
    <geometry>
      <cylinder length="0.15" radius="0.02"/>
    </geometry>
  </collision>
 </link>

<joint name="joint_revolute_branch_25_branch_26_cylinder_Z" type="revolute">
  <origin rpy="0 0 0" xyz="0 0 0"/>
  <parent link="branch_25"/>
  <child link="branch_26_cylinder"/>
  <axis xyz="0 1.0 -6.123233995736766e-17"/>
  <dynamics damping="0.01" friction="0.5"/>
  <limit lower="-1.5707963267948966" upper="1.5707963267948966" effort="0.01" velocity="100"/>
</joint>

<link name="branch_26">
  <inertial>
   <mass value="1"/>
   <inertia ixx="0.00014439999999999999" ixy="0" ixz="0" iyy="0.00014439999999999999" iyz="0" izz="0.00014439999999999999"/>
  </inertial>
  <collision>
    <origin rpy="0 0 0" xyz="0 0 0"/>
    <geometry>
      <sphere radius="0.019"/>
    </geometry>
  </collision>
  <visual>
    <origin rpy="0 0 0" xyz="0 0 0"/>
    <geometry>
      <sphere radius="0.019"/>
    </geometry>
  </visual>
</link>

<joint name="joint_fixed_branch_26_cylinder_branch_26" type="fixed">
  <origin rpy="0 0 0" xyz="-0.19 0 0"/>
  <parent link="branch_26_cylinder"/>
  <child link="branch_26"/>
</joint>

  <klampt package_root="../../.." default_acc_max="4" >
  </klampt>
</robot>
